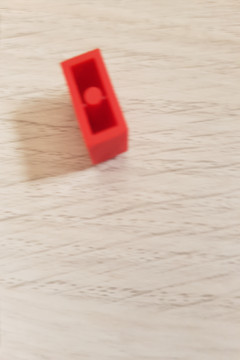1x2 red: (56, 46, 134, 163)
